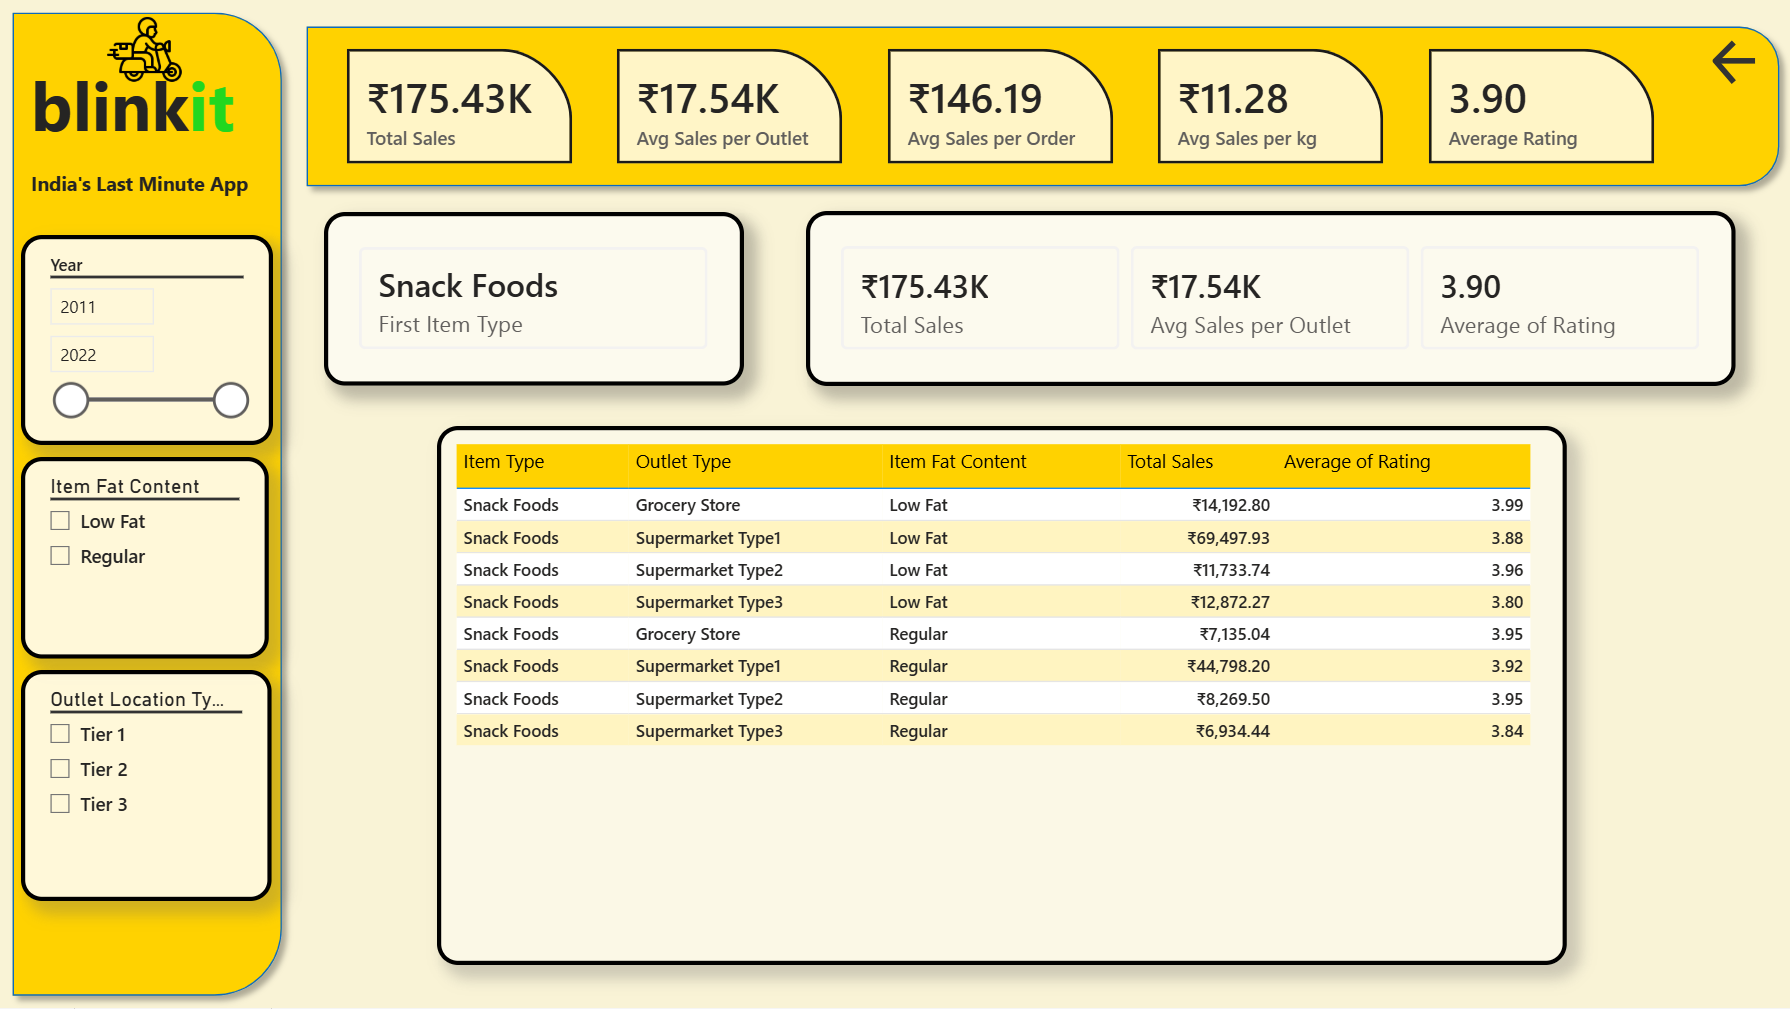

The page's visual inventory and layout, read from the dashboard file:
{"tool":"powerbi","page":{"name":"Outlet/Item Info","canvas":[1280,720],"ordinal":2},"visuals":[{"type":"tableEx","fields":{"Values":["BlinkIT Grocery Data.Item Type","BlinkIT Grocery Data.Outlet Type","BlinkIT Grocery Data.Item Fat Content","Measures_Table.Total Sales","Avg(BlinkIT Grocery Data.Rating)"]},"box":[311.8,304.5,807.1,385.2],"z":17000},{"type":"cardVisual","fields":{"Data":["Min(BlinkIT Grocery Data.Item Type)"]},"box":[231.1,151.6,299.6,123.5],"z":20000},{"type":"cardVisual","fields":{"Data":["Measures_Table.Total Sales","BlinkIT Grocery Data.Average Sales per Outlet","Avg(BlinkIT Grocery Data.Rating)"]},"box":[576,150.4,664,124.7],"z":21000},{"type":"shape","box":[0,0,210.3,720.2],"z":21001},{"type":"textbox","box":[17.1,36.7,178.5,79.5],"z":21002},{"type":"textbox","box":[17.1,116.2,177.3,34.2],"z":21003},{"type":"shape","box":[210,9.8,1070,132.1],"z":21004},{"type":"cardVisual","fields":{"Data":["Measures_Table.Total Sales"]},"box":[230.6,17.6,195.7,116.2],"z":21005},{"type":"cardVisual","fields":{"Data":["Measures_Table.Average Sales per Outlet"]},"box":[423.8,17.6,195.7,116.2],"z":21006},{"type":"cardVisual","fields":{"Data":["Measures_Table.Avg_Sales_per_order"]},"box":[617,17.6,195.7,116.2],"z":21007},{"type":"cardVisual","fields":{"Data":["Measures_Table.Average Rating"]},"box":[1003.5,17.6,195.7,116.2],"z":21008},{"type":"cardVisual","fields":{"Data":["Measures_Table.Sales per kg"]},"box":[810.2,17.6,195.7,116.2],"z":21009},{"type":"image","box":[68.5,8.6,69.7,56.3],"z":21010},{"type":"slicer","fields":{"Values":["BlinkIT Grocery Data.Outlet Establishment Year"]},"box":[14.7,167.5,179.8,150.4],"z":21011},{"type":"slicer","fields":{"Values":["BlinkIT Grocery Data.Item Fat Content"]},"box":[14.9,326.7,177.3,144.3],"z":21012},{"type":"slicer","fields":{"Values":["BlinkIT Grocery Data.Outlet Location Type"]},"box":[14.9,478.4,178.5,165.1],"z":21013},{"type":"actionButton","box":[1219.2,24.5,44,40.4],"z":21014}]}

Visuals, with their boxes in screenshot pixels (x1, y1, x2, y2), scaled from the page's 1280x720 canvas onto the 1790x1009 screenshot:
tableEx - BlinkIT Grocery Data.Item Type x BlinkIT Grocery Data.Outlet Type: {"left": 436, "top": 427, "right": 1565, "bottom": 967}
cardVisual - Min(BlinkIT Grocery Data.Item Type): {"left": 323, "top": 212, "right": 742, "bottom": 386}
cardVisual - Measures_Table.Total Sales x BlinkIT Grocery Data.Average Sales per Outlet: {"left": 806, "top": 211, "right": 1734, "bottom": 386}
shape: {"left": 0, "top": 0, "right": 294, "bottom": 1008}
textbox: {"left": 24, "top": 51, "right": 274, "bottom": 163}
textbox: {"left": 24, "top": 163, "right": 272, "bottom": 211}
shape: {"left": 294, "top": 14, "right": 1789, "bottom": 199}
cardVisual - Measures_Table.Total Sales: {"left": 322, "top": 25, "right": 596, "bottom": 188}
cardVisual - Measures_Table.Average Sales per Outlet: {"left": 593, "top": 25, "right": 866, "bottom": 188}
cardVisual - Measures_Table.Avg_Sales_per_order: {"left": 863, "top": 25, "right": 1137, "bottom": 188}
cardVisual - Measures_Table.Average Rating: {"left": 1403, "top": 25, "right": 1677, "bottom": 188}
cardVisual - Measures_Table.Sales per kg: {"left": 1133, "top": 25, "right": 1407, "bottom": 188}
image: {"left": 96, "top": 12, "right": 193, "bottom": 91}
slicer - BlinkIT Grocery Data.Outlet Establishment Year: {"left": 21, "top": 235, "right": 272, "bottom": 446}
slicer - BlinkIT Grocery Data.Item Fat Content: {"left": 21, "top": 458, "right": 269, "bottom": 660}
slicer - BlinkIT Grocery Data.Outlet Location Type: {"left": 21, "top": 670, "right": 270, "bottom": 902}
actionButton: {"left": 1705, "top": 34, "right": 1767, "bottom": 91}
